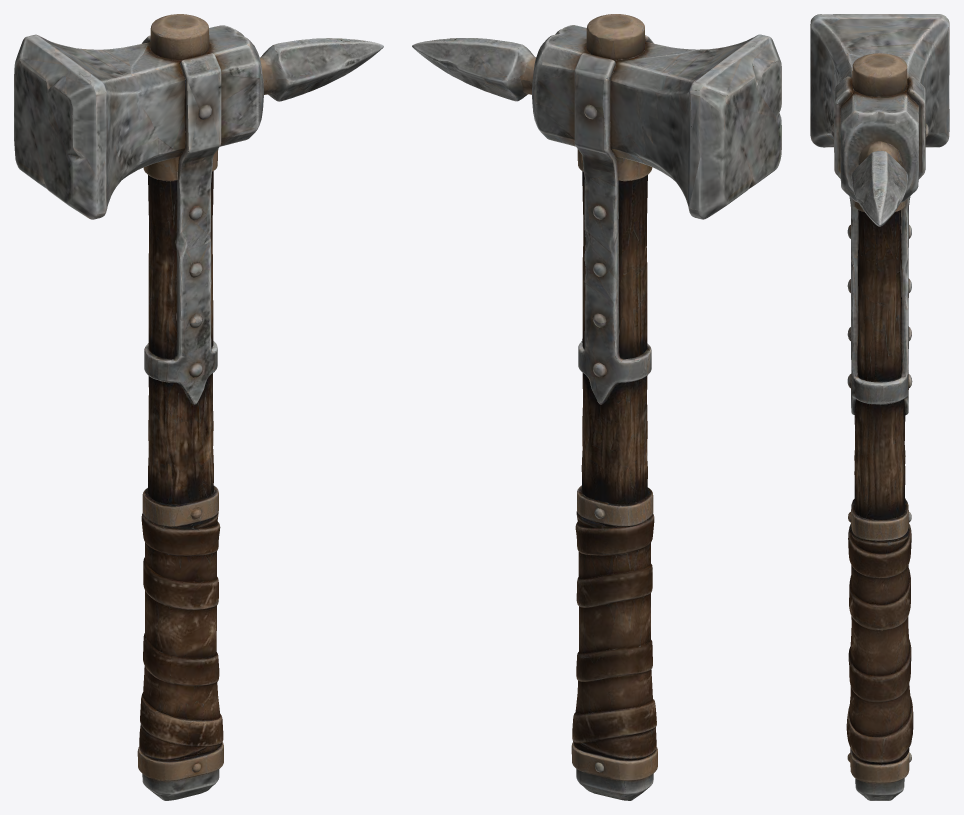
The model's file is war_hammer.glb.
3 views of the same model, side by side, from view 1: azimuth 30°, elevation 25°; view 2: azimuth 150°, elevation 25°; view 3: azimuth 270°, elevation 25° (orthographic). The views are drawn at different scales.
Parts seen in each view (by area): view 1: Mesh_0; view 2: Mesh_0; view 3: Mesh_0.
Part boxes in pixels (x1,y1,x2,y2): Mesh_0: (14, 14, 383, 800); Mesh_0: (412, 14, 781, 800); Mesh_0: (810, 14, 949, 800).
Bounding box in the file's own units: 0.4631 × 1 × 0.1731.
1 material, 1 textured.
